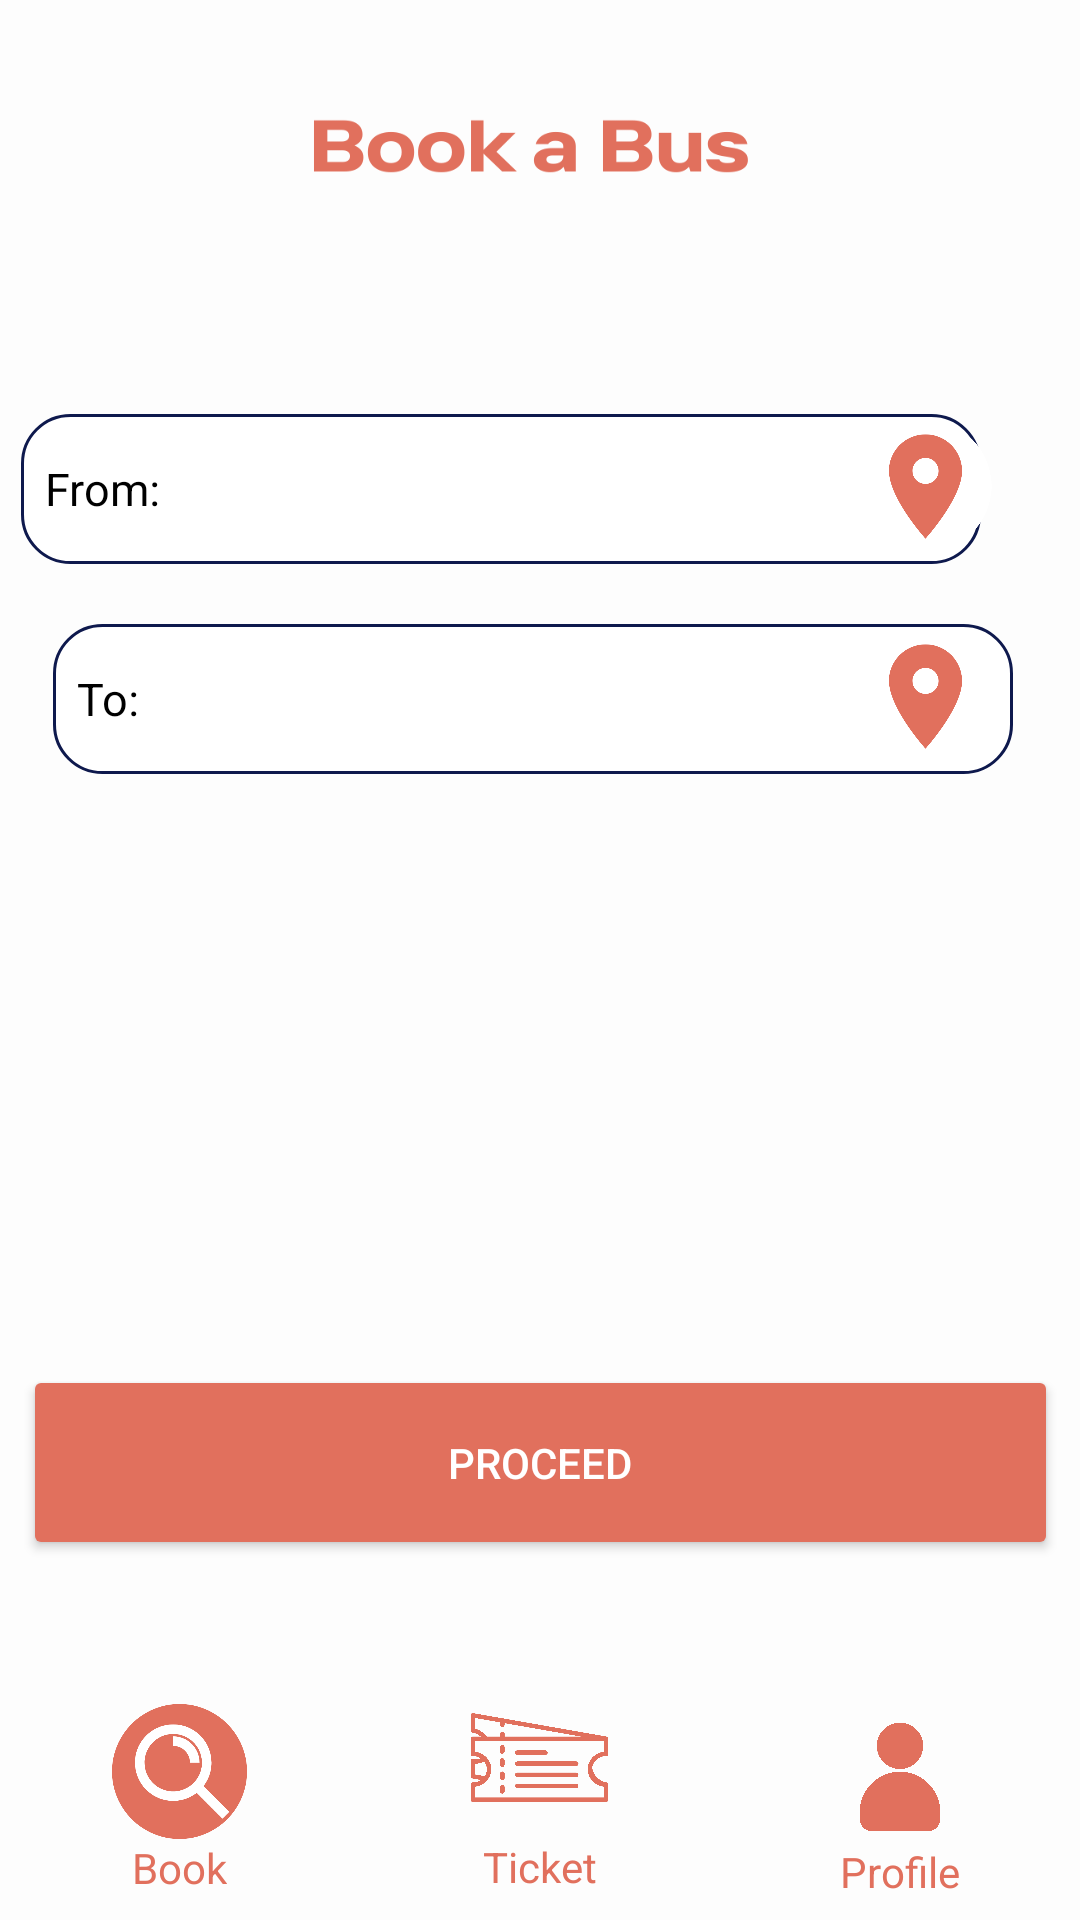

Where icons sit on this 1080x1920 app screen, as (x1, y1, x2, y2):
iconuser: (860, 1723, 940, 1831)
